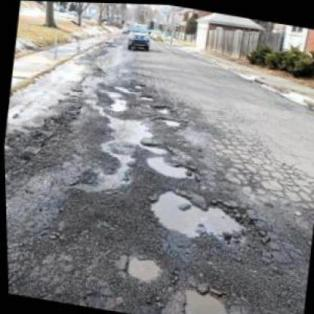Hueco: (143, 184, 250, 246), (173, 279, 232, 313), (143, 151, 197, 179), (123, 250, 163, 281), (156, 113, 186, 128), (140, 140, 169, 153), (152, 100, 173, 114), (137, 92, 155, 100)
